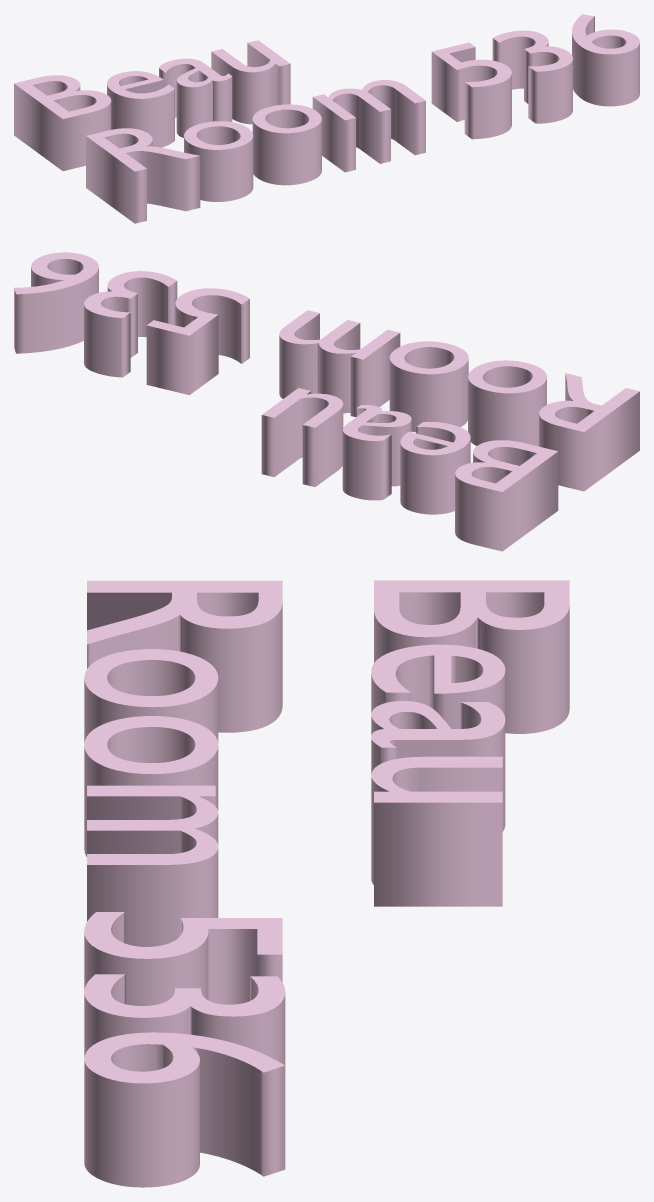
File: beau-536.gltf
3 views of the same model, one above another, from view 1: azimuth 30°, elevation 25°; view 2: azimuth 150°, elevation 25°; view 3: azimuth 270°, elevation 25° (orthographic). The views are drawn at different scales.
Visible parts, largest first — view 1: Text; view 2: Text; view 3: Text.
Boxes of the visible parts, x1,y1,x2,y2 form: Text: (14,14,639,223); Text: (14,252,639,551); Text: (84,580,569,1187).
Bounding box in the file's own units: 4.15 × 0.4 × 1.69.
